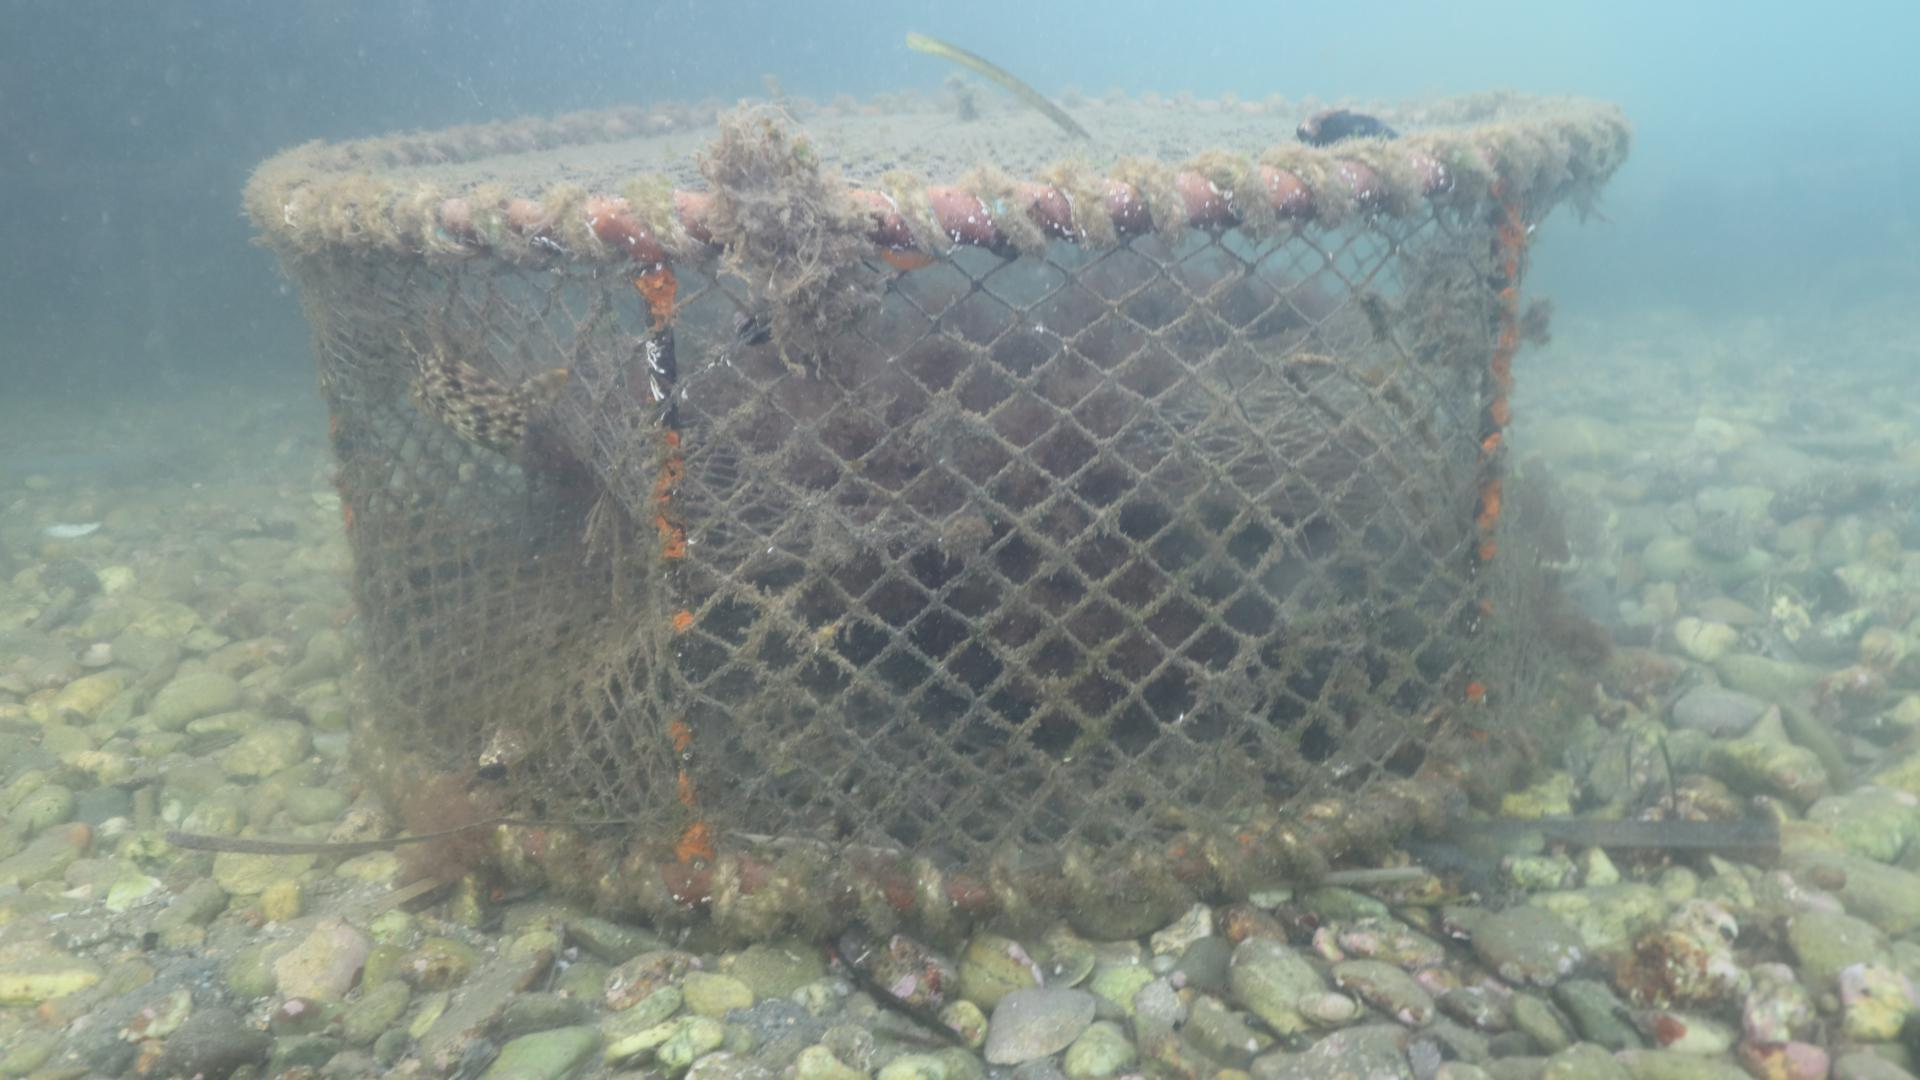circular fish trap: (240, 80, 1629, 940)
